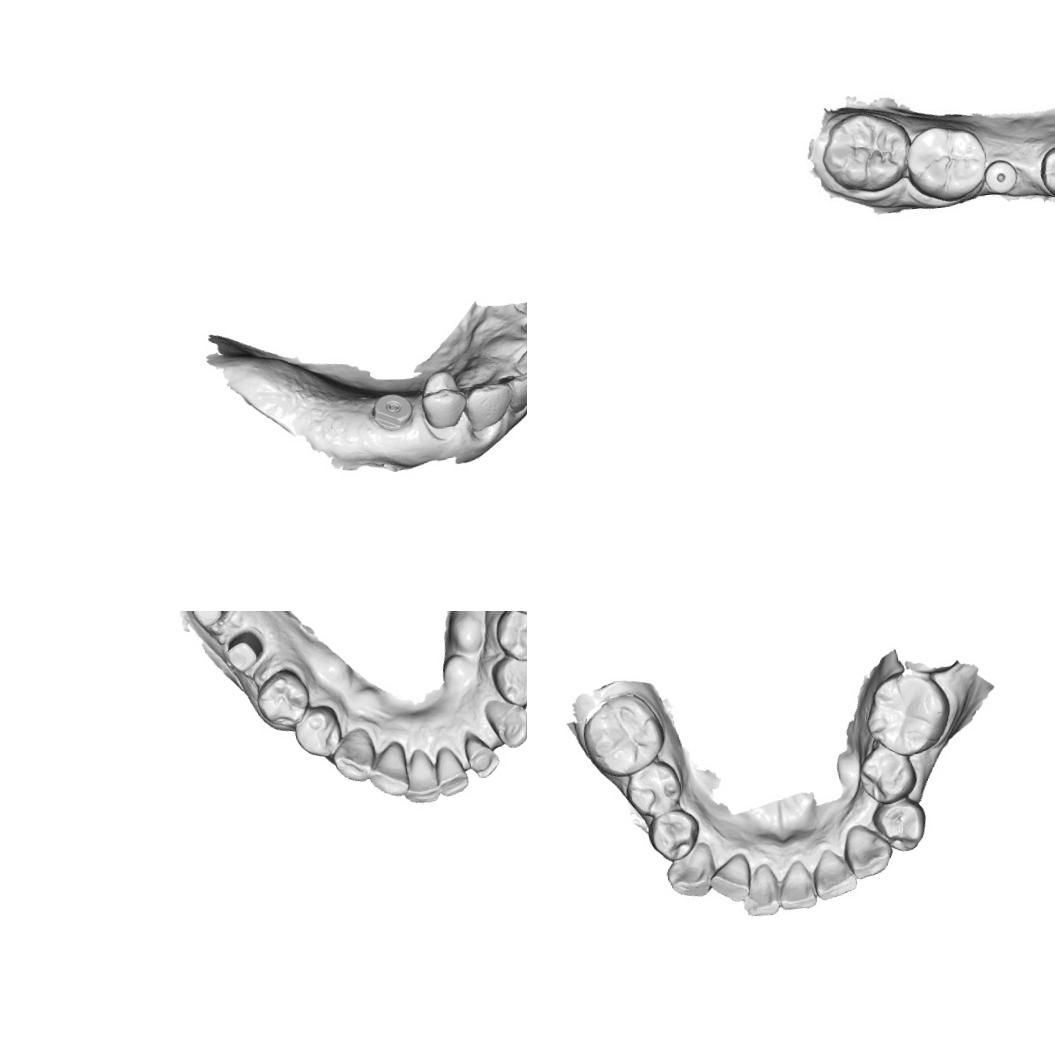abutment: (218, 630, 264, 674), (186, 611, 234, 633)
canine: (840, 820, 896, 882), (662, 841, 719, 900), (328, 726, 379, 786), (461, 380, 517, 434), (482, 694, 527, 752)
implant: (368, 388, 417, 434), (984, 160, 1018, 200)
incisor: (364, 738, 411, 800), (810, 844, 858, 902), (737, 861, 782, 921), (398, 746, 441, 807), (706, 852, 754, 906), (776, 858, 818, 912), (462, 726, 501, 780), (433, 743, 470, 798), (504, 364, 527, 415), (511, 330, 527, 387)
molar: (860, 666, 956, 760), (818, 108, 916, 198), (578, 690, 669, 782), (905, 122, 992, 205)
premolar: (855, 740, 920, 808), (622, 757, 685, 819), (252, 666, 312, 730), (414, 367, 470, 433), (870, 795, 931, 855), (645, 806, 703, 864), (292, 702, 344, 760), (488, 652, 527, 710), (492, 611, 527, 664), (1033, 136, 1055, 206)
